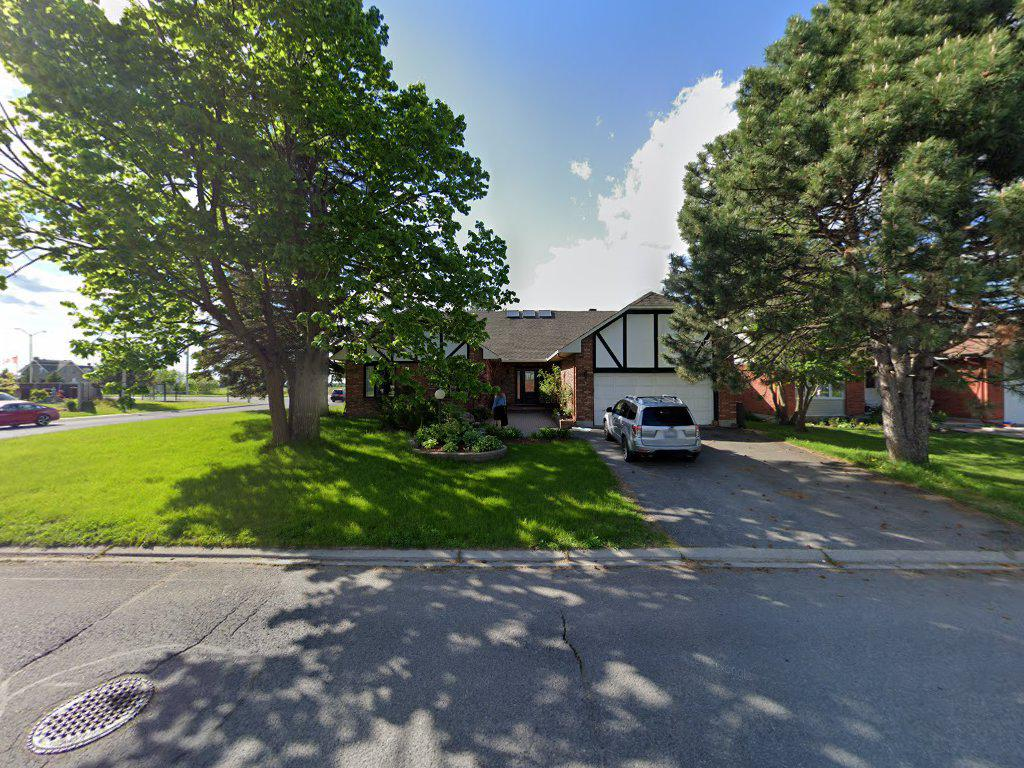trunk: (872, 345, 941, 475), (258, 360, 295, 449)
